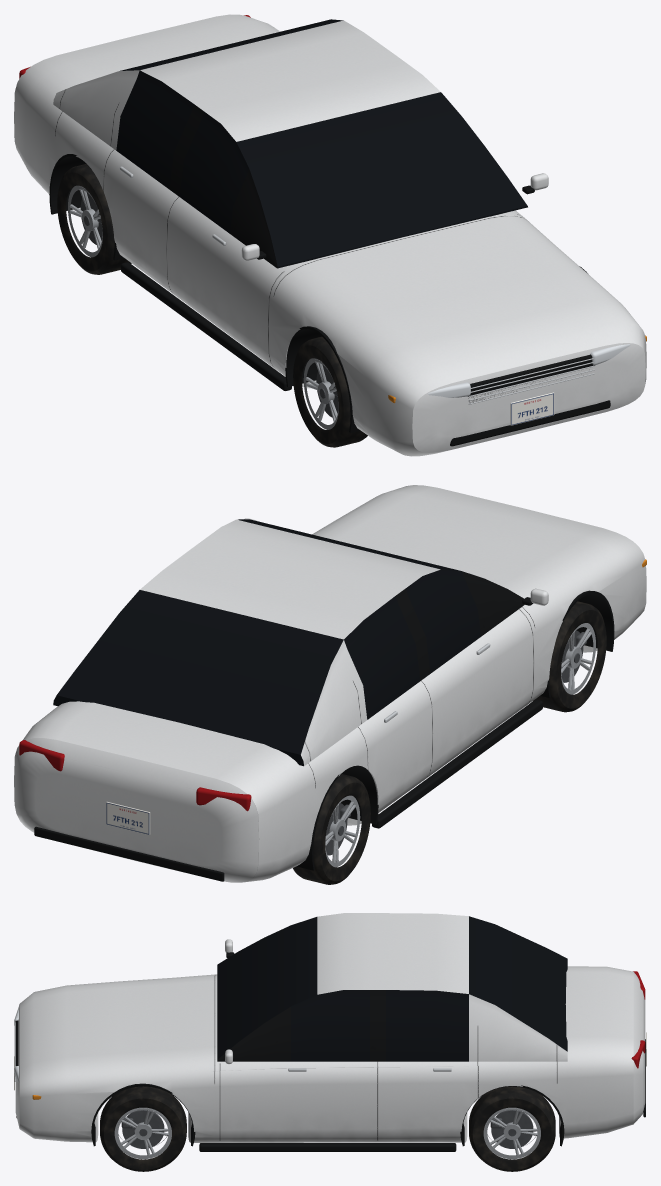
The model's file is SM_Sedan.glb.
The picture shows the model from 3 angles, top to bottom: view 1: azimuth 30°, elevation 25°; view 2: azimuth 150°, elevation 25°; view 3: azimuth 270°, elevation 25°; orthographic projection. The views are drawn at different scales.
Parts seen in each view (by area): view 1: SM_Sedan; view 2: SM_Sedan; view 3: SM_Sedan.
Part boxes in pixels (x1,y1,x2,y2): SM_Sedan: [14, 14, 646, 456]; SM_Sedan: [14, 485, 646, 884]; SM_Sedan: [14, 913, 646, 1171].
Size of the model in its own units: 2.09 by 1.44 by 4.8.
Materials: 11 (11 with a texture image).
